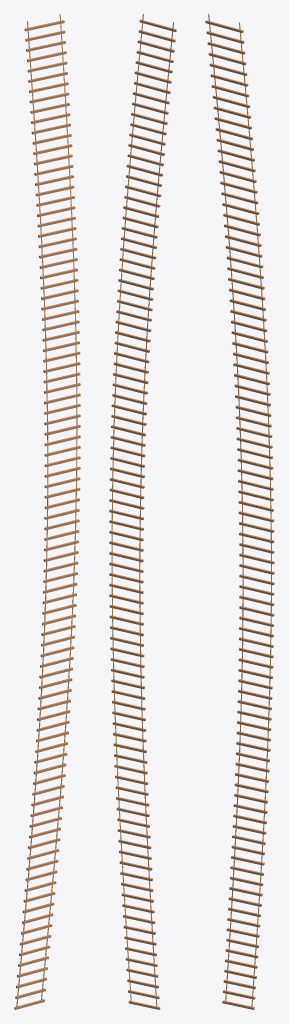
Rendered from Recovery_Breathe.fbx.
The picture shows the model from 3 angles, left to right: view 1: azimuth 30°, elevation 25°; view 2: azimuth 150°, elevation 25°; view 3: azimuth 330°, elevation 25°; orthographic projection. The views are drawn at different scales.
Parts seen in each view (by area): view 1: Recovery_Breathe; view 2: Recovery_Breathe; view 3: Recovery_Breathe.
Boxes of the visible parts, box(x1,y1,x2,y2) form: Recovery_Breathe: box(14, 14, 80, 1009); Recovery_Breathe: box(109, 14, 176, 1009); Recovery_Breathe: box(205, 14, 274, 1009).
Bounding box in the file's own units: 4.8 × 75.08 × 2.27.
